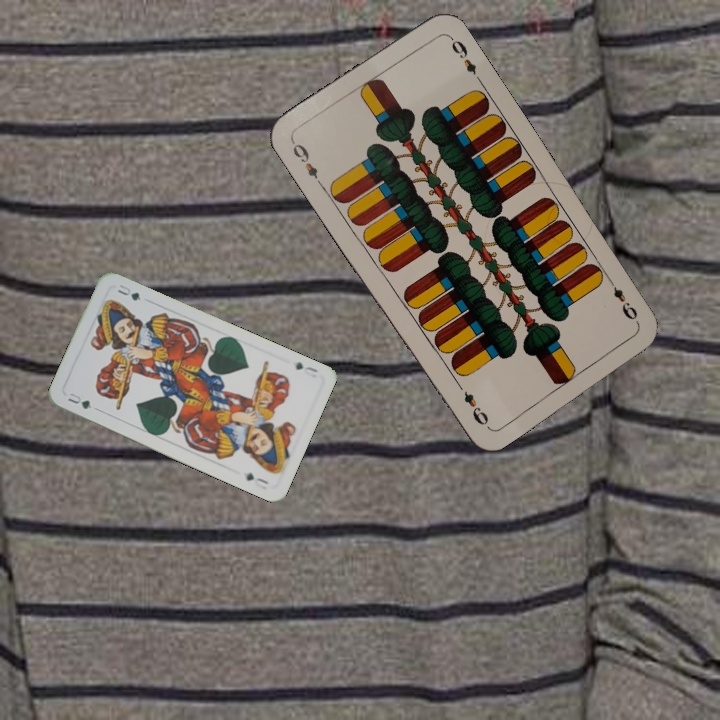E9: (288, 137, 326, 189), (604, 275, 641, 323)
GU: (64, 389, 94, 412), (291, 358, 320, 380)
